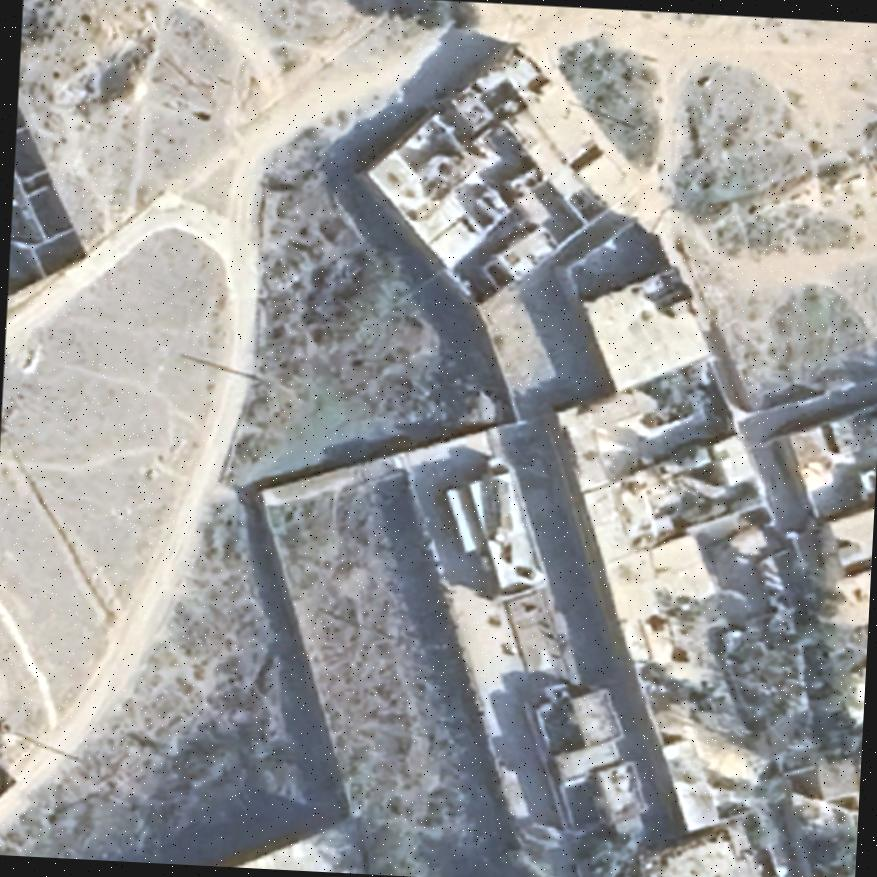Solarpanel: (480, 476, 507, 541)
